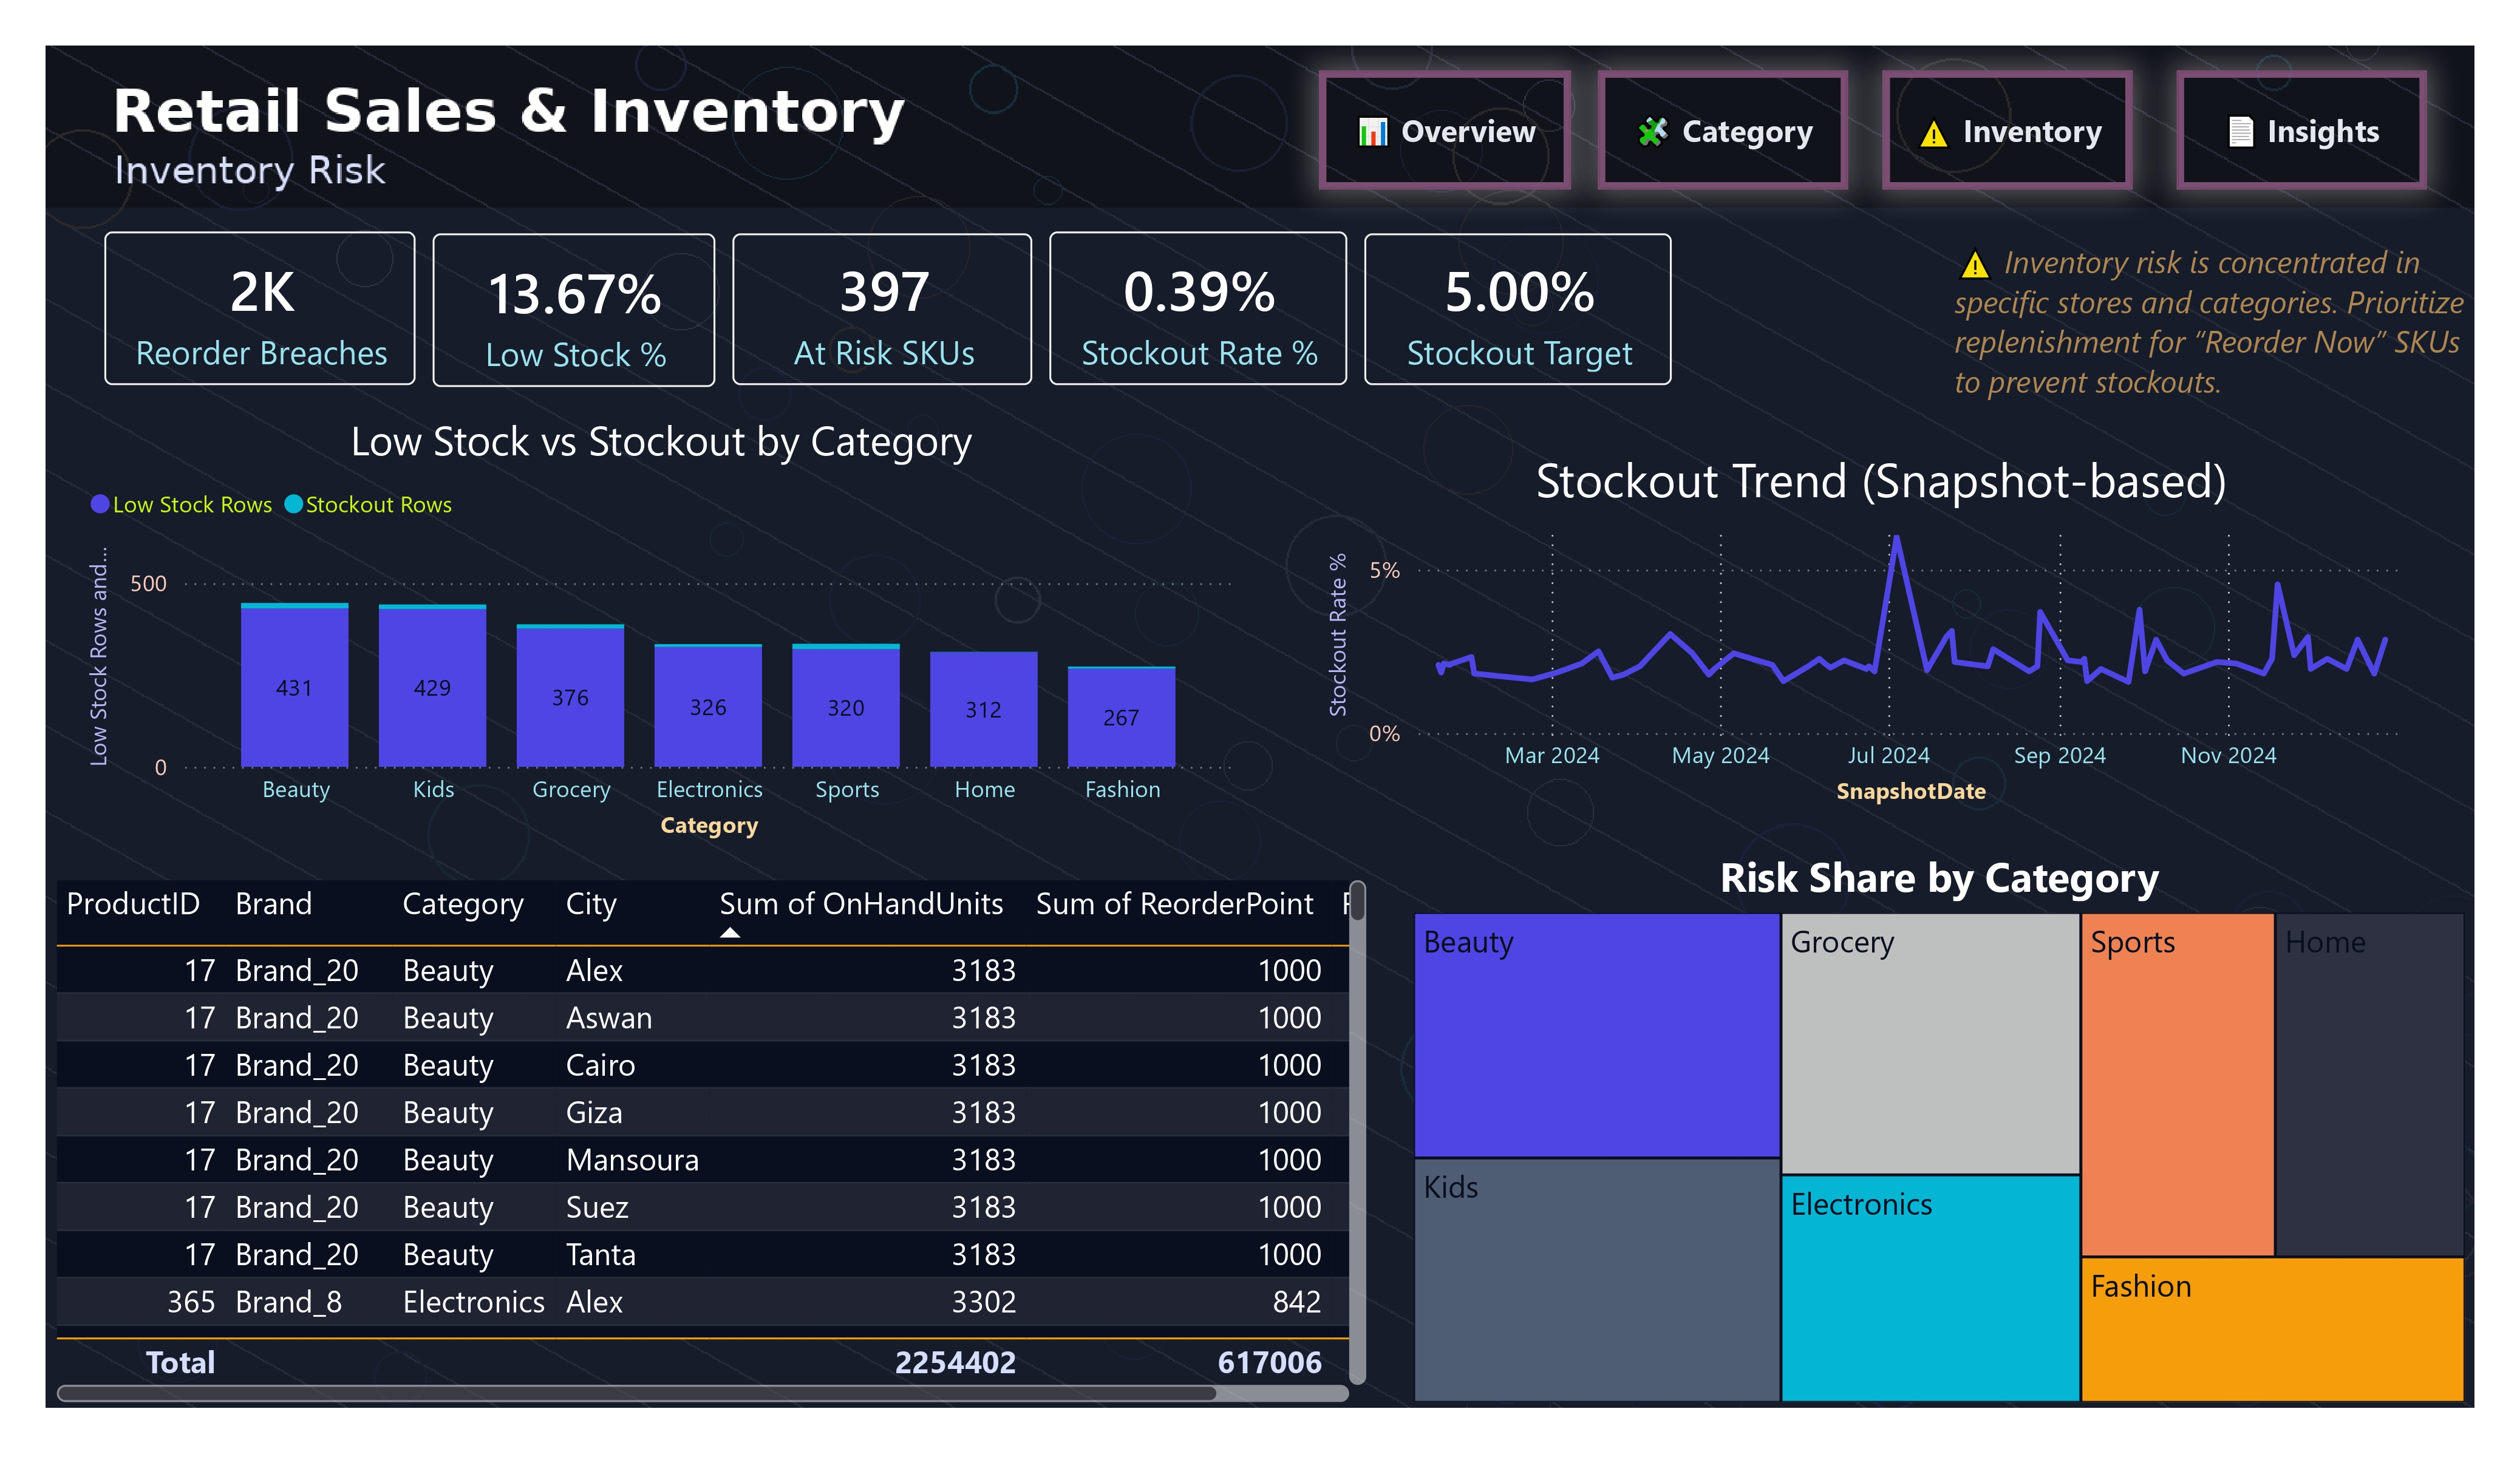

What the dashboard file says about the page in this screenshot:
{"tool":"powerbi","page":{"name":"Inventory Risk","canvas":[1280,720],"ordinal":2},"visuals":[{"type":"actionButton","title":"Overview","box":[671.2,12.5,132.5,63.8],"z":0},{"type":"actionButton","title":"Overview","box":[817.5,12.5,132.5,63.8],"z":1000},{"type":"actionButton","title":"Overview","box":[967.5,12.5,132.5,63.8],"z":2000},{"type":"cardVisual","fields":{"Data":["Table.Low Stock %"]},"box":[189.8,85.2,177.5,108.8],"z":3000},{"type":"cardVisual","fields":{"Data":["Table.Stockout Rate %"]},"box":[515,84,185,108.8],"z":4000},{"type":"cardVisual","fields":{"Data":["Table.At Risk SKUs"]},"box":[348,85.2,186.2,107.5],"z":5000},{"type":"cardVisual","fields":{"Data":["Table.Reorder Breaches"]},"box":[16.5,84,192.5,108.8],"z":6000},{"type":"cardVisual","fields":{"Data":["Table.Stockout Target"]},"box":[680.8,85.2,190,107.5],"z":7000},{"type":"lineChart","title":"Stockout Trend (Snapshot-based)","fields":{"Y":["Table.Stockout Rate %"],"Category":["fact_inventory_snapshots.SnapshotDate"]},"box":[671.2,211.2,592.5,193.8],"z":8000},{"type":"columnChart","title":"Low Stock vs Stockout by Category","fields":{"Category":["dim_products.Category"],"Y":["Table.Low Stock Rows","fact_inventory_snapshots.Stockout Rows"]},"box":[17.5,192.5,613.8,230],"z":9000},{"type":"treemap","title":"Risk Share by Category","fields":{"Group":["dim_products.Category"],"Values":["Table.At Risk Rows"]},"box":[716.2,422.5,563.8,297.5],"z":10000},{"type":"tableEx","fields":{"Values":["dim_products.ProductID","dim_products.Brand","dim_products.Category","dim_stores.City","Sum(fact_inventory_snapshots.OnHandUnits)","Sum(fact_inventory_snapshots.ReorderPoint)","Table.Risk Status"]},"box":[0,435,701.2,285],"z":11000},{"type":"textbox","box":[1001.2,97.5,278.8,107.5],"z":12000},{"type":"actionButton","title":"Overview","box":[1122.5,12.5,132.5,63.8],"z":13000}]}

Visuals, with their boxes on the page's 1280x720 design canvas (x1, y1, x2, y2). These are canvas units, not pixel positions in the 2520x1457 screenshot, which may show the page scaled, cropped or inside an application window:
"Overview" actionButton: [left=671, top=12, right=804, bottom=76]
"Overview" actionButton: [left=818, top=12, right=950, bottom=76]
"Overview" actionButton: [left=968, top=12, right=1100, bottom=76]
cardVisual - Table.Low Stock %: [left=190, top=85, right=367, bottom=194]
cardVisual - Table.Stockout Rate %: [left=515, top=84, right=700, bottom=193]
cardVisual - Table.At Risk SKUs: [left=348, top=85, right=534, bottom=193]
cardVisual - Table.Reorder Breaches: [left=16, top=84, right=209, bottom=193]
cardVisual - Table.Stockout Target: [left=681, top=85, right=871, bottom=193]
"Stockout Trend (Snapshot-based)" lineChart: [left=671, top=211, right=1264, bottom=405]
"Low Stock vs Stockout by Category" columnChart: [left=18, top=192, right=631, bottom=422]
"Risk Share by Category" treemap: [left=716, top=422, right=1280, bottom=720]
tableEx - dim_products.ProductID x dim_products.Brand: [left=0, top=435, right=701, bottom=720]
textbox: [left=1001, top=98, right=1280, bottom=205]
"Overview" actionButton: [left=1122, top=12, right=1255, bottom=76]
